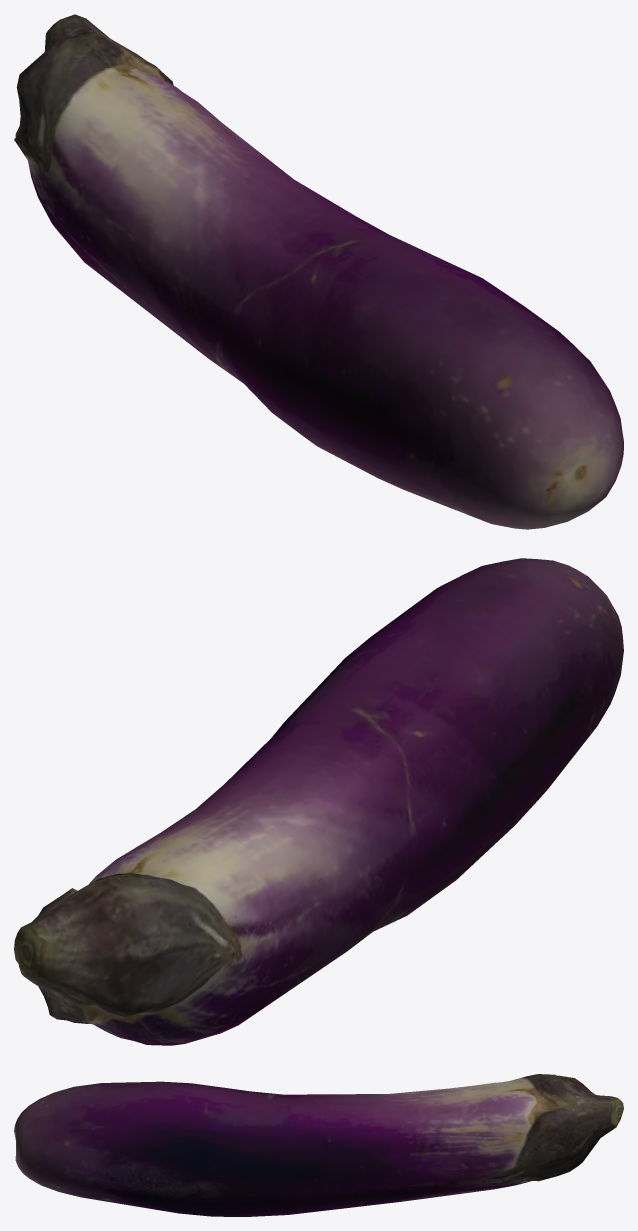
The model's file is eggplant.glb.
3 views of the same model, one above another, from view 1: azimuth 30°, elevation 25°; view 2: azimuth 150°, elevation 25°; view 3: azimuth 270°, elevation 25° (orthographic). The views are drawn at different scales.
Parts seen in each view (by area): view 1: Eggplant_Eggplant PBR_0; view 2: Eggplant_Eggplant PBR_0; view 3: Eggplant_Eggplant PBR_0.
Part boxes in pixels (bbox=[...]): Eggplant_Eggplant PBR_0: bbox=[14, 14, 623, 529]; Eggplant_Eggplant PBR_0: bbox=[14, 558, 623, 1045]; Eggplant_Eggplant PBR_0: bbox=[14, 1074, 623, 1216].
Size of the model in its own units: 0.0447 by 0.0472 by 0.201.
1 material, 1 textured.
